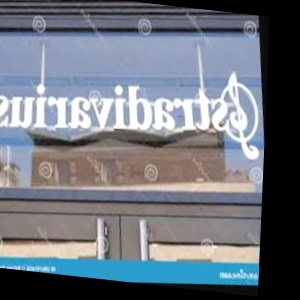stradivarius: (262, 46, 267, 105)
